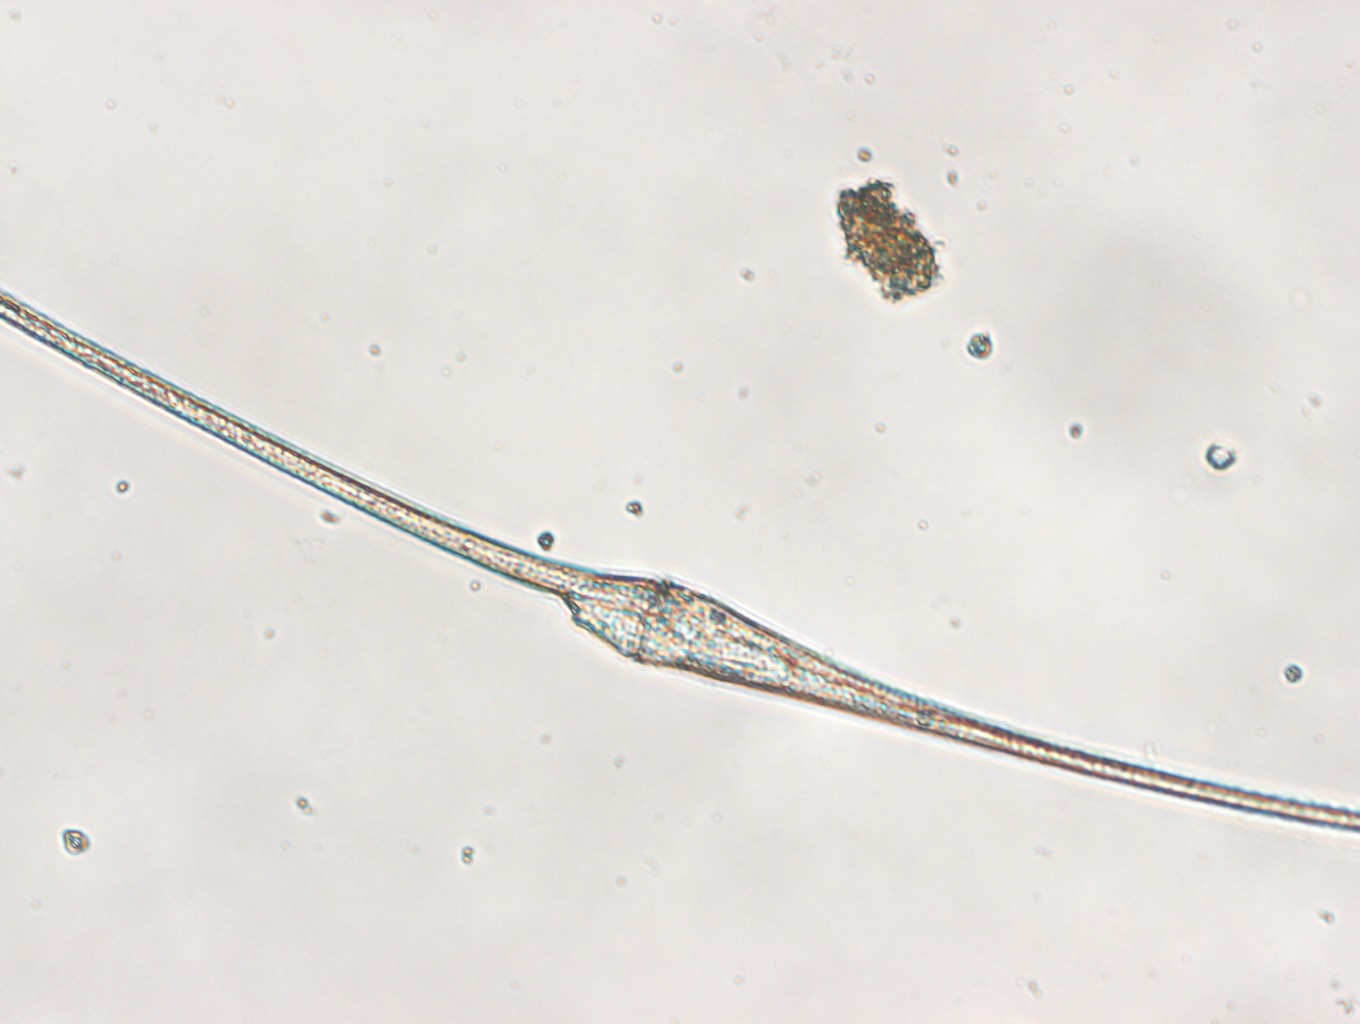ceratium fusus: (1, 293, 1360, 831)
